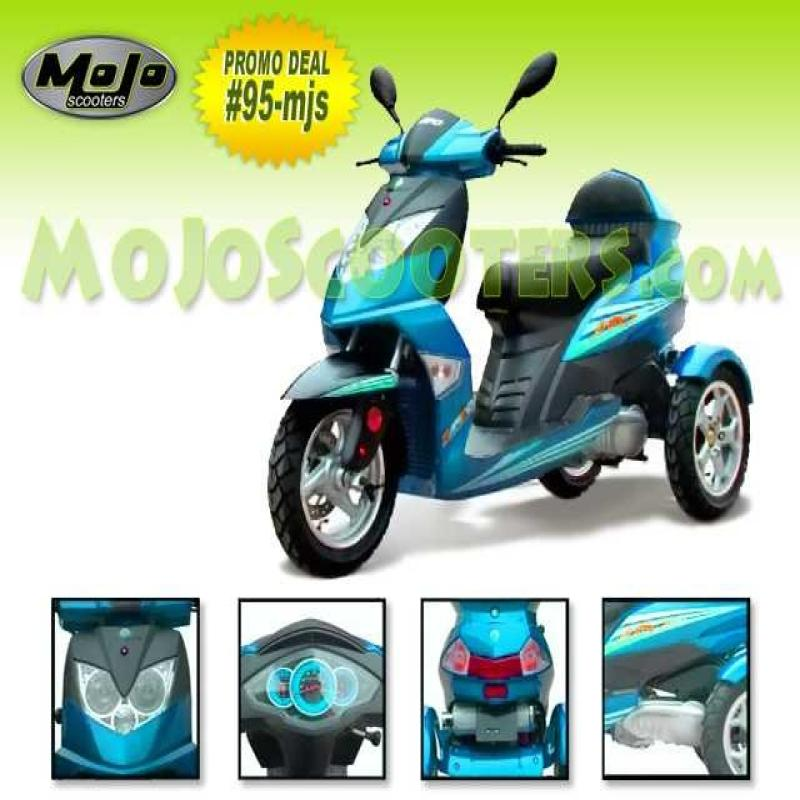bike: (253, 55, 761, 564)
